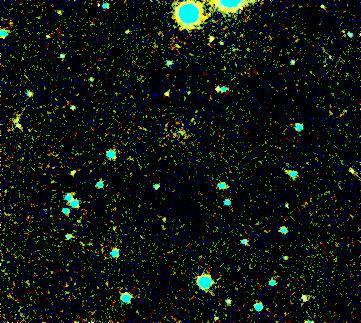star: (152, 78, 182, 108)
